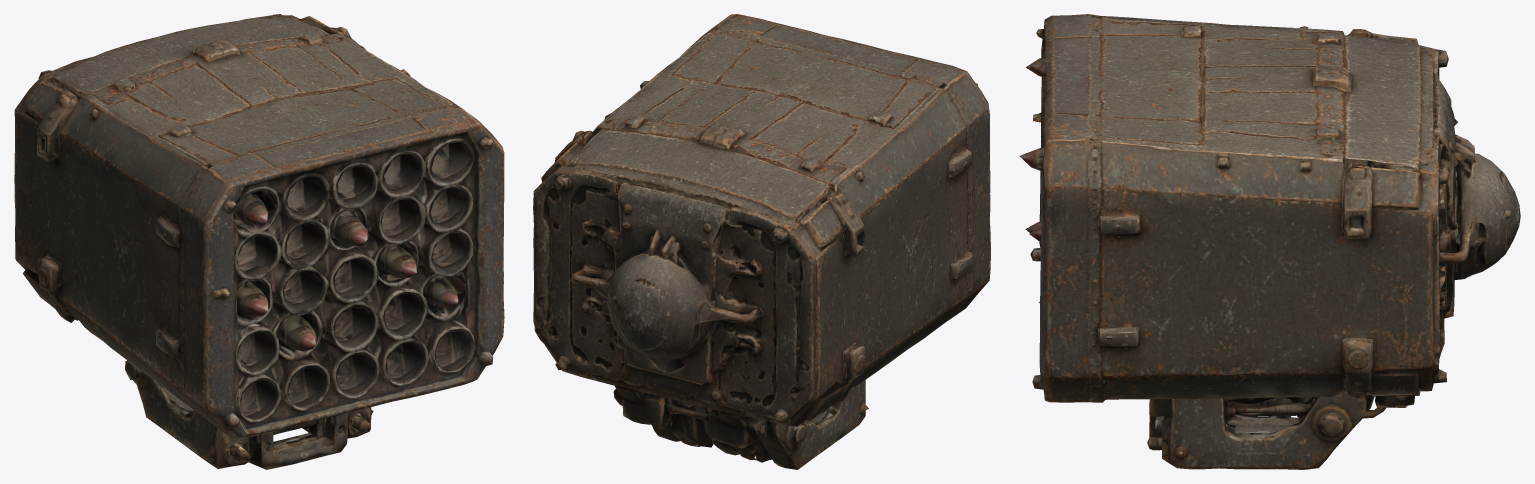
Rendered from BK_RocketPod.fbx.
The picture shows the model from 3 angles, left to right: view 1: azimuth 30°, elevation 25°; view 2: azimuth 150°, elevation 25°; view 3: azimuth 270°, elevation 25°; orthographic projection. The views are drawn at different scales.
Parts seen in each view (by area): view 1: texture_mapping; view 2: texture_mapping; view 3: texture_mapping.
Boxes of the visible parts, left/top/right/bottom form: texture_mapping: left=14, top=14, right=504, bottom=469; texture_mapping: left=533, top=14, right=990, bottom=469; texture_mapping: left=1019, top=14, right=1520, bottom=469.
Bounding box in the file's own units: 0.7703 × 1 × 0.8024.
1 material, 1 textured.
